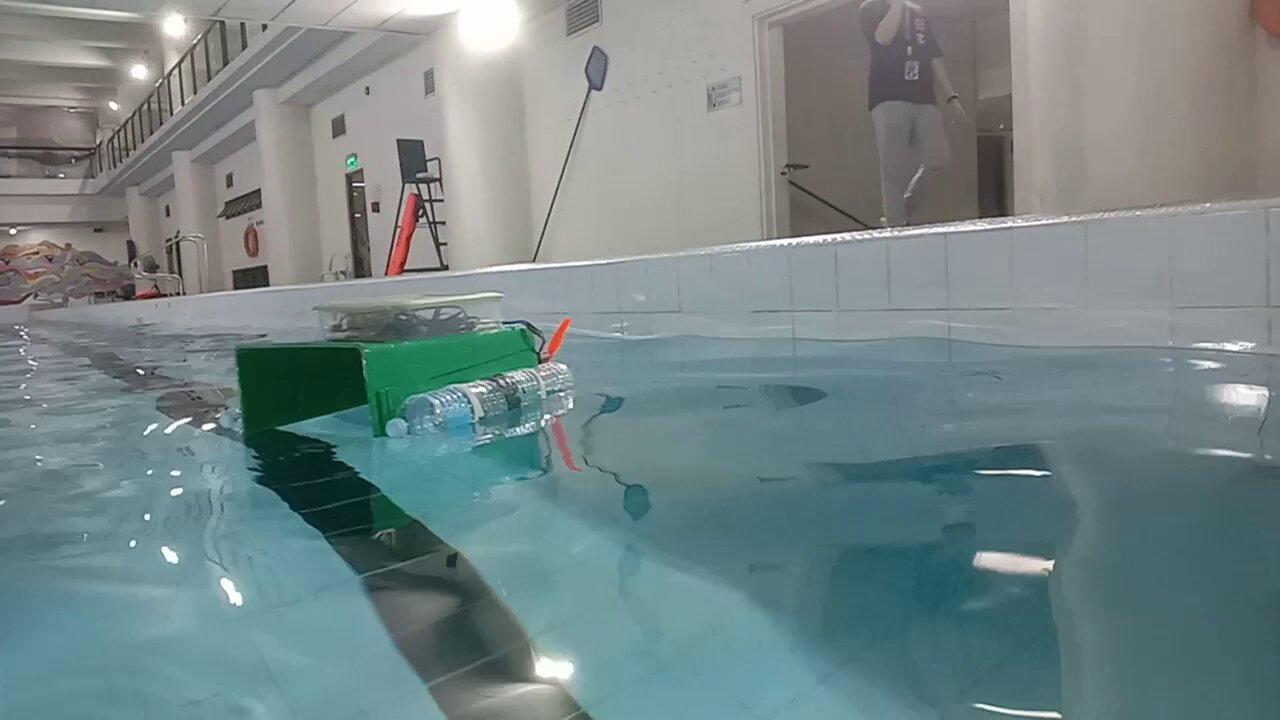drone: (219, 289, 575, 445)
